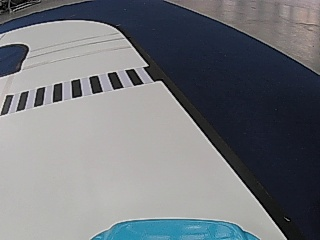CrossWalk: (10, 66, 148, 114)
